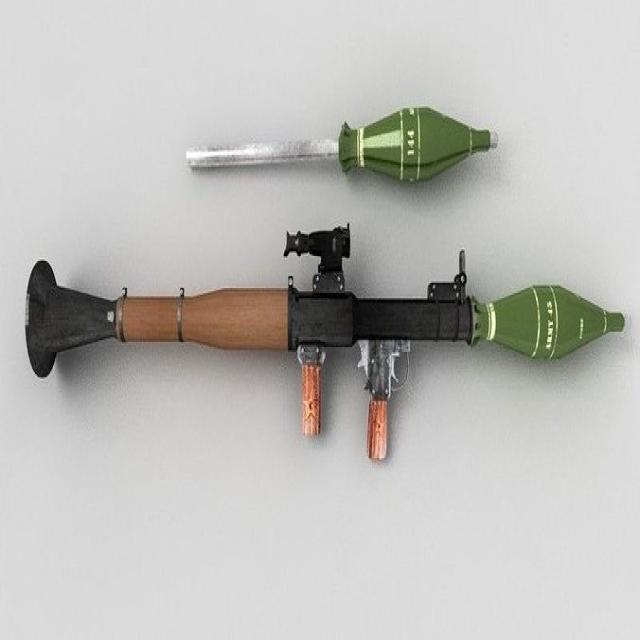bazooka: (20, 208, 634, 440)
